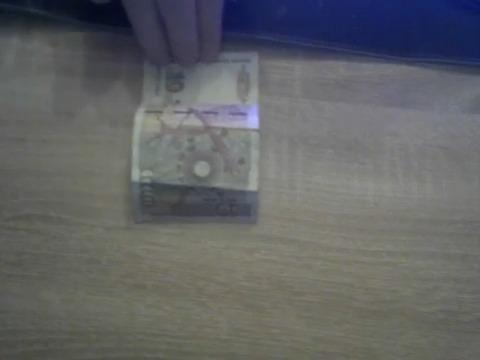10leva: (130, 51, 262, 223)
